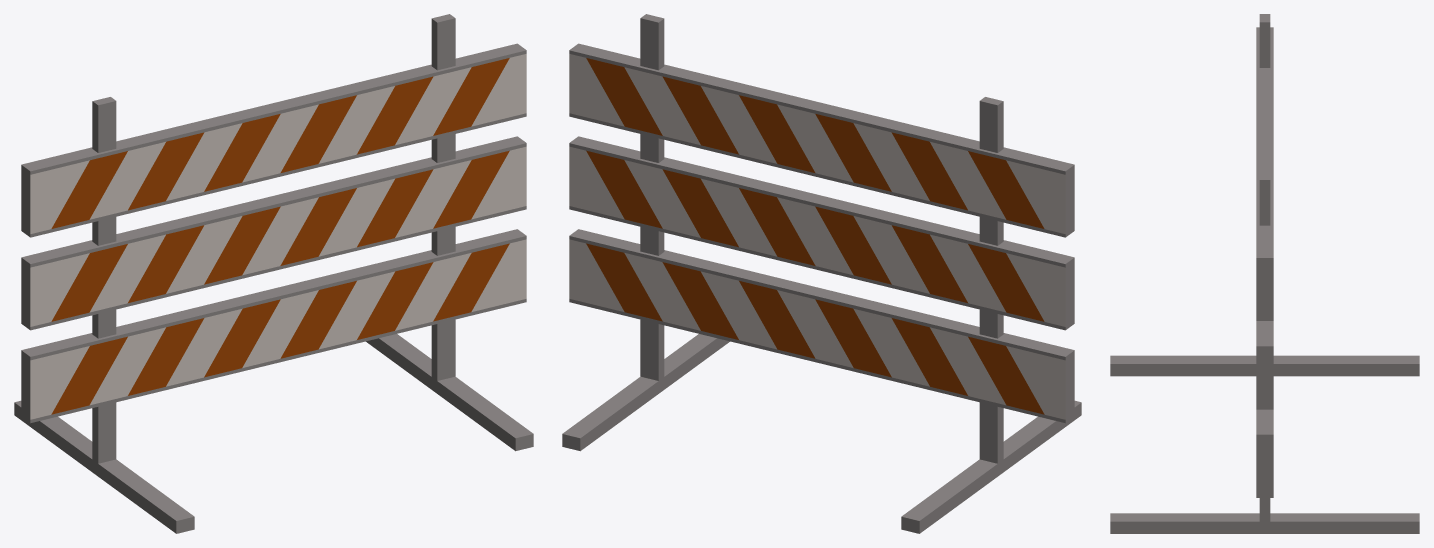
The model's file is road-barrier.glb.
3 views of the same model, side by side, from view 1: azimuth 30°, elevation 25°; view 2: azimuth 150°, elevation 25°; view 3: azimuth 270°, elevation 25° (orthographic). The views are drawn at different scales.
Visible parts, largest first — view 1: TrafficBarrier_1; view 2: TrafficBarrier_1; view 3: TrafficBarrier_1.
Boxes of the visible parts, x1=… form: TrafficBarrier_1: x1=14, y1=14, x2=533, y2=533; TrafficBarrier_1: x1=562, y1=14, x2=1081, y2=533; TrafficBarrier_1: x1=1110, y1=14, x2=1419, y2=533.
Bounding box in the file's own units: 1.56 × 1.11 × 0.8807.
1 material, 1 textured.
